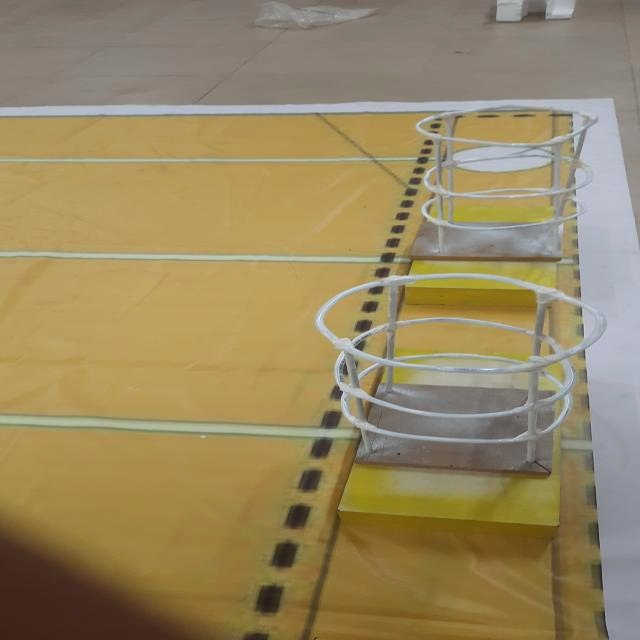silo: (286, 262, 601, 495), (381, 102, 606, 272)
